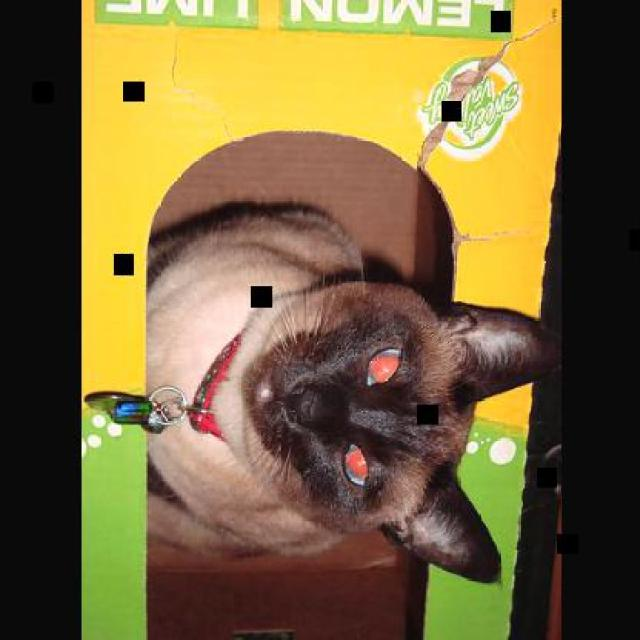unauthorized: (143, 197, 560, 585)
